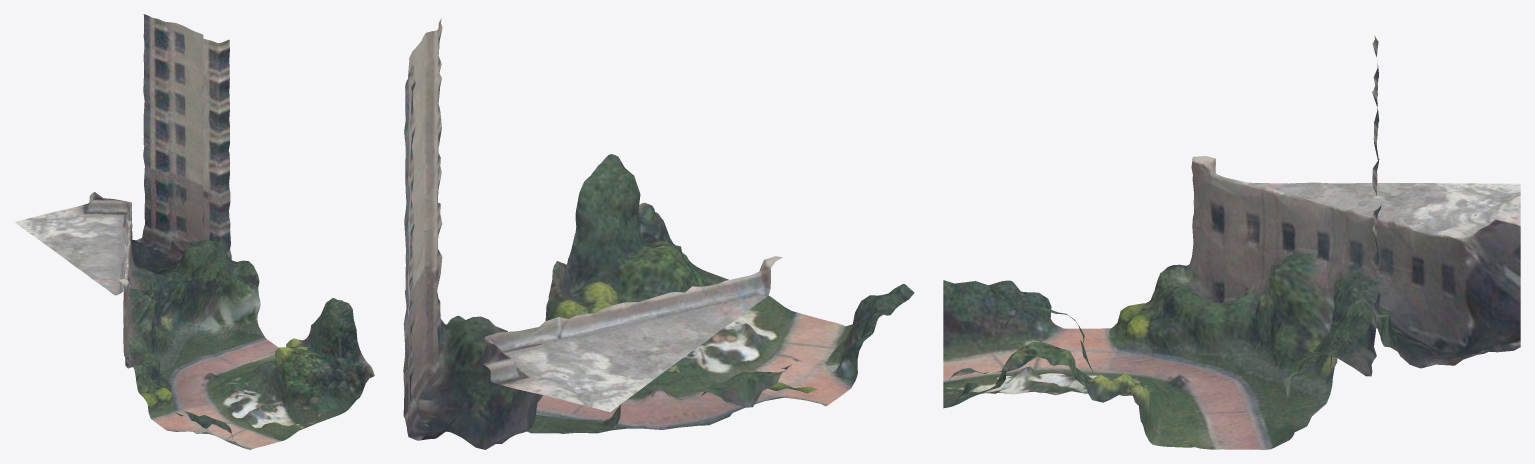
The model's file is Tile_+002_+006_L21_0000510.glb.
The picture shows the model from 3 angles, left to right: view 1: azimuth 30°, elevation 25°; view 2: azimuth 150°, elevation 25°; view 3: azimuth 270°, elevation 25°; orthographic projection. The views are drawn at different scales.
Parts seen in each view (by area): view 1: rtc; view 2: rtc; view 3: rtc.
Part boxes in pixels (x1,y1,x2,y2): rtc: (14,14,374,449); rtc: (403,18,914,449); rtc: (943,36,1520,449).
Bounding box in the file's own units: 12.63 × 19.72 × 25.13.
Materials: 1 (1 with a texture image).
